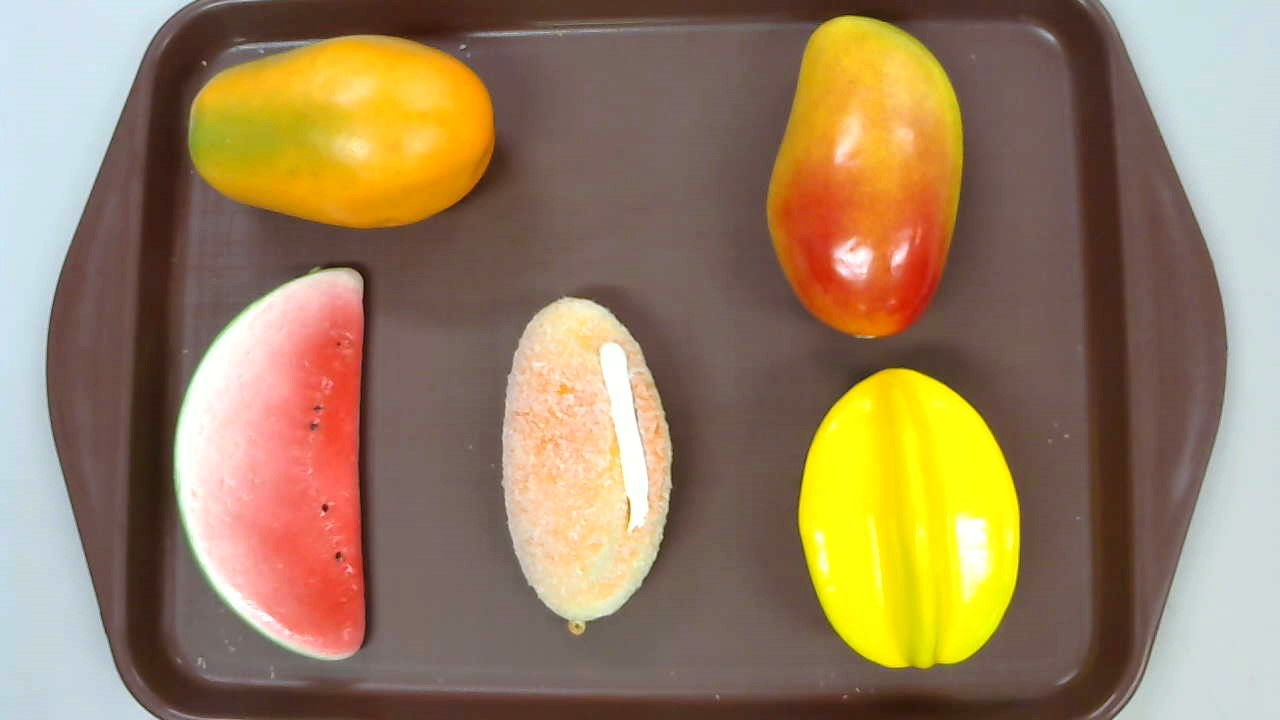coconut: (501, 296, 673, 637)
papya: (188, 33, 496, 228)
red mango: (765, 14, 964, 339)
star fruit: (798, 368, 1020, 670)
water melon: (172, 266, 366, 661)
